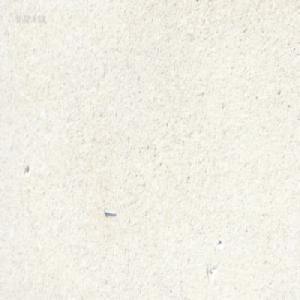Nail: (102, 207, 117, 217)
